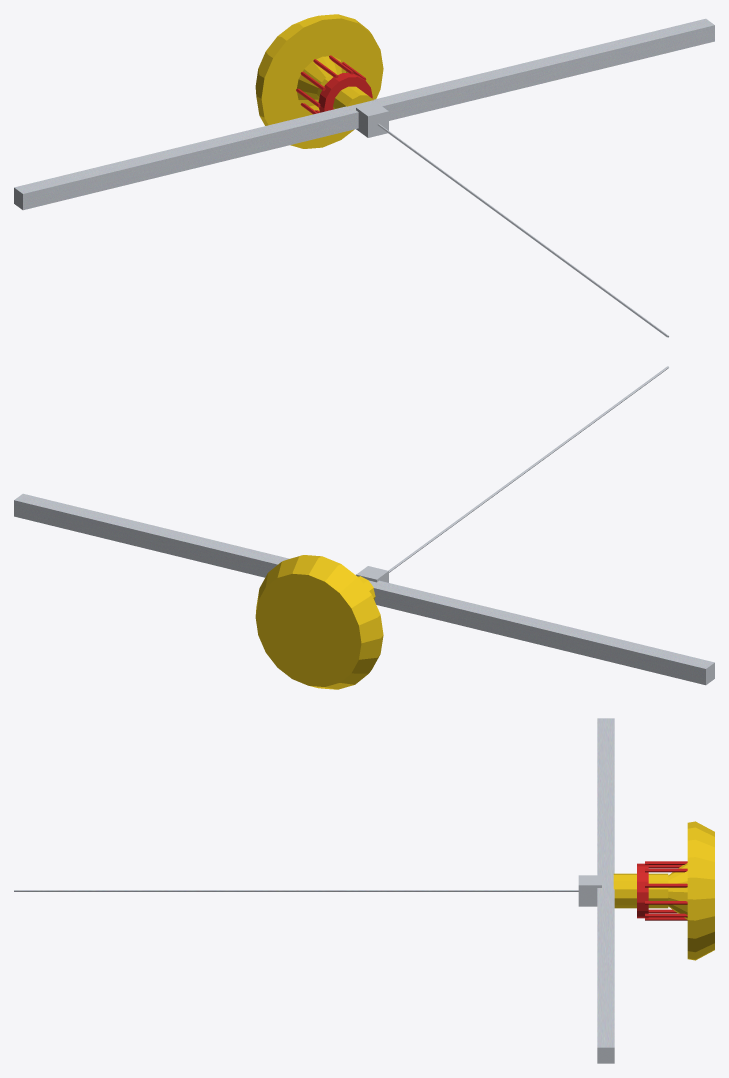
Rendered from feeder_pan.obj.
3 views of the same model, one above another, from view 1: azimuth 30°, elevation 25°; view 2: azimuth 150°, elevation 25°; view 3: azimuth 270°, elevation 25° (orthographic). The views are drawn at different scales.
Size of the model in its own units: 2 by 0.36 by 1.8.
Materials: 3 (1 with a texture image).
